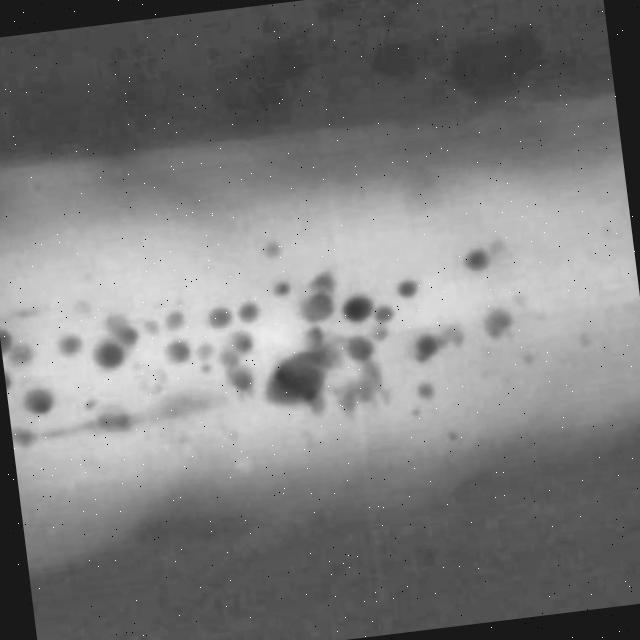Pore: (0, 220, 464, 477), (456, 232, 507, 280), (473, 304, 520, 348)
